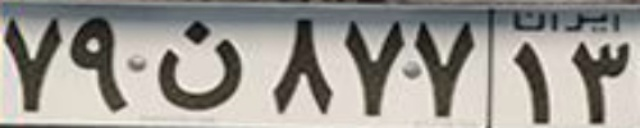1: (510, 36, 552, 122)
3: (573, 39, 630, 125)
7: (415, 19, 476, 118), (345, 19, 403, 114), (4, 15, 61, 111)
8: (270, 19, 335, 113)
9: (71, 14, 132, 112)
non: (156, 18, 245, 111)
